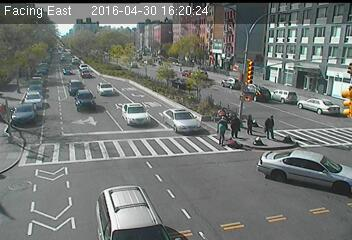neg: (136, 97, 158, 126), (35, 101, 53, 125), (115, 174, 131, 195), (307, 159, 321, 178), (242, 39, 256, 58), (167, 20, 181, 39), (318, 98, 332, 116), (330, 31, 344, 49), (37, 150, 50, 168), (294, 64, 307, 82), (200, 80, 212, 98), (49, 36, 60, 51), (142, 44, 153, 58), (89, 37, 99, 51), (295, 19, 305, 33), (245, 175, 255, 188), (197, 49, 207, 62), (148, 10, 156, 21), (118, 134, 126, 144), (204, 24, 212, 34), (79, 114, 86, 122), (182, 179, 188, 188)
pos: (223, 112, 247, 144), (258, 112, 279, 139), (212, 107, 232, 134), (240, 112, 259, 137), (212, 121, 230, 144)
